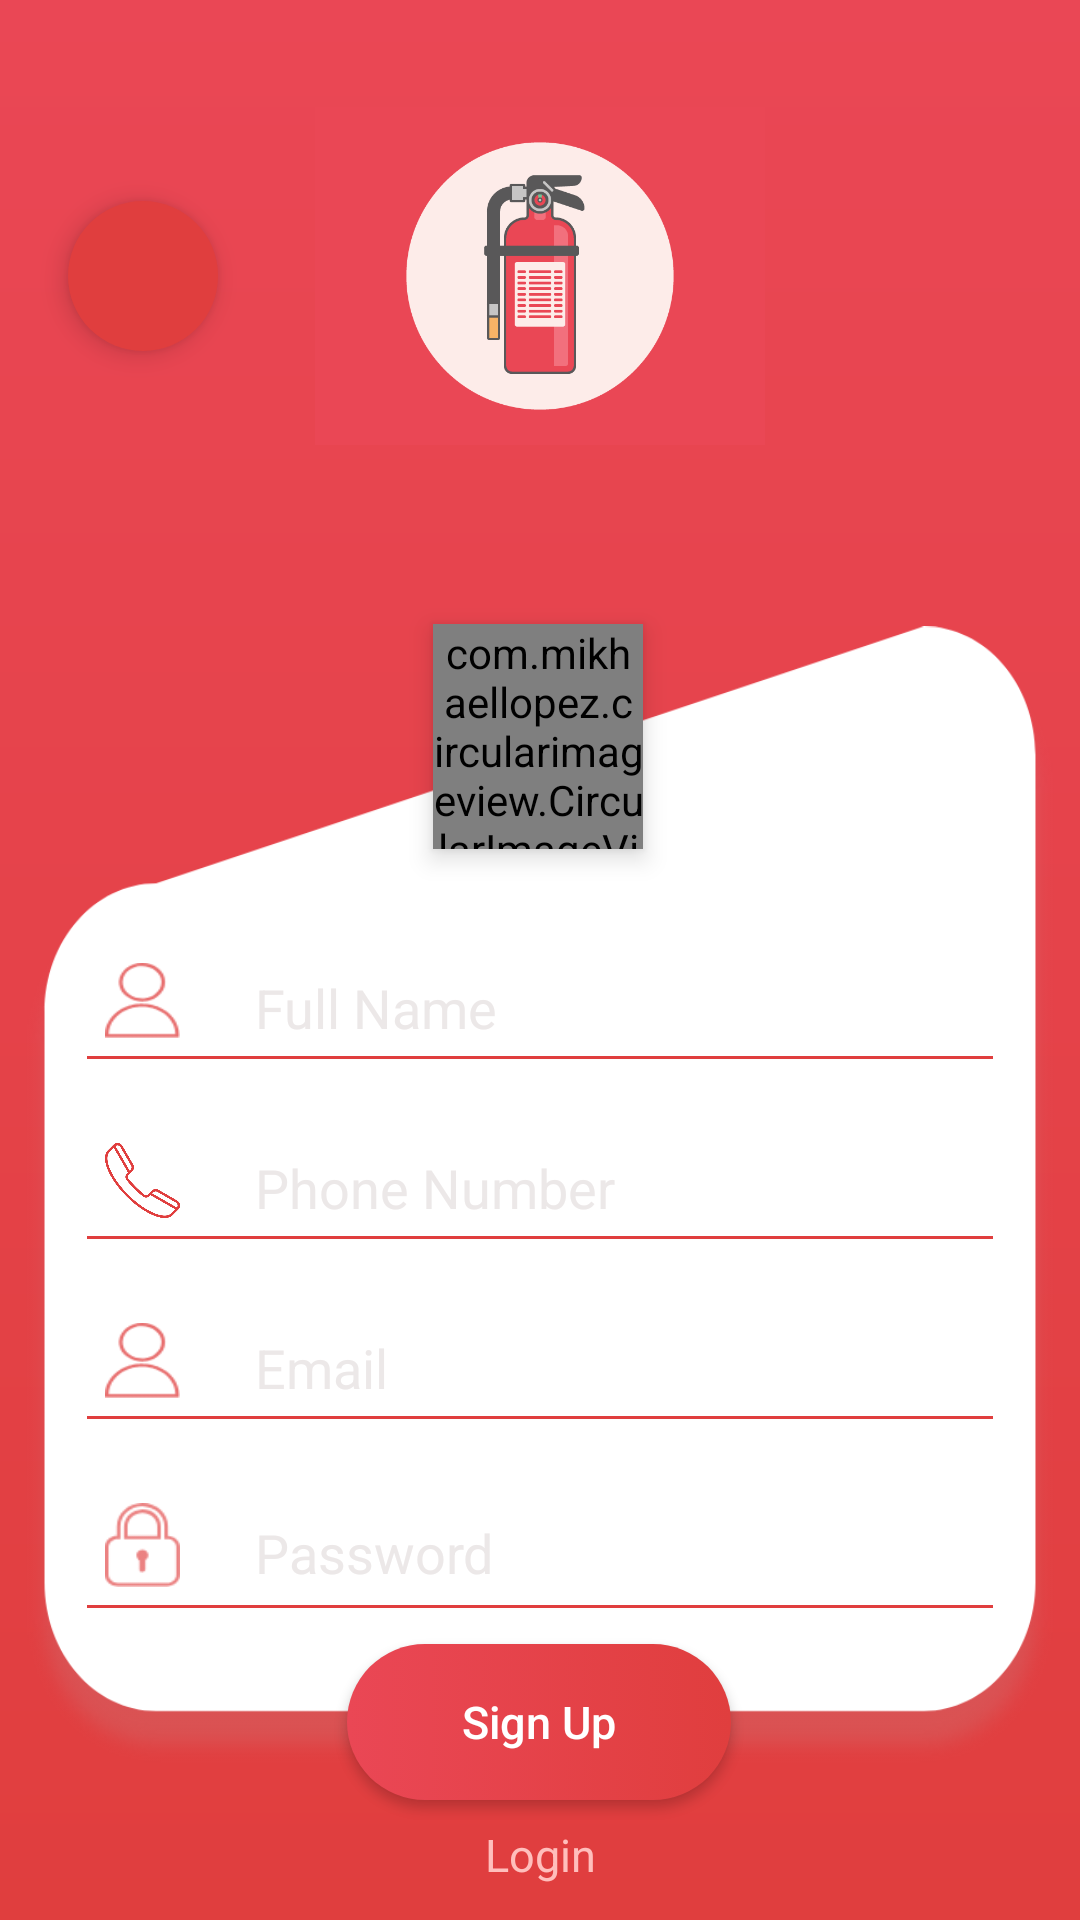

Named icons in this screenshot (1080×1920) and their centers, point (x, y):
fire extinguisher main: point (540, 276)
